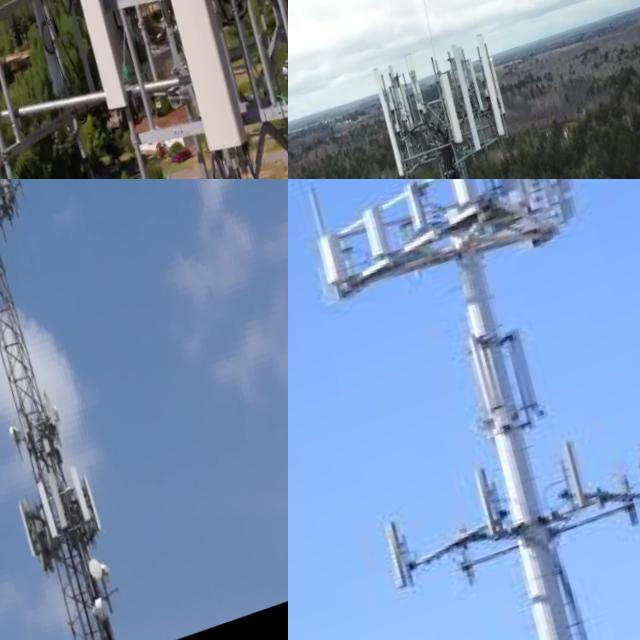GSM Antenna: (88, 0, 288, 171), (27, 0, 163, 136), (364, 58, 423, 179), (466, 31, 521, 139), (445, 45, 497, 156), (462, 462, 523, 551), (303, 224, 362, 295), (377, 516, 429, 596), (557, 437, 603, 518), (393, 180, 448, 247), (350, 199, 405, 262), (437, 68, 477, 151), (79, 468, 119, 547), (401, 48, 441, 122), (68, 461, 106, 538), (34, 474, 73, 548), (437, 179, 499, 224), (45, 467, 82, 536), (19, 498, 54, 562)
Microwave Antenna: (10, 422, 34, 454), (97, 597, 120, 629), (103, 560, 124, 591), (93, 557, 113, 586), (53, 407, 69, 428)
